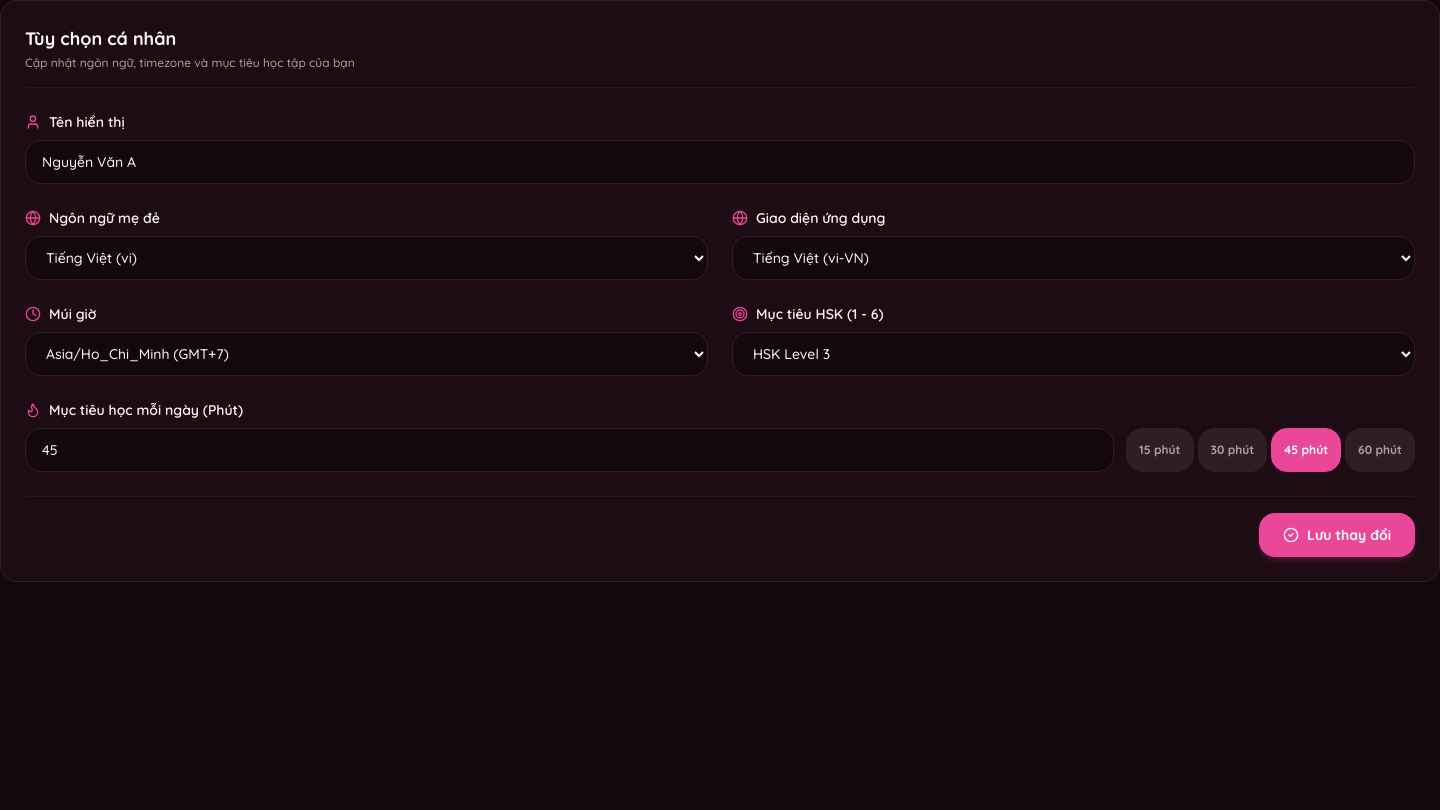
ProfilePreferencesForm Component › shows field error when display name is empty
The width and height of the screenshot is (1440, 810).
Clear the field with test id "profile-display-name-input" at (720, 162), box [25, 140, 1415, 184]
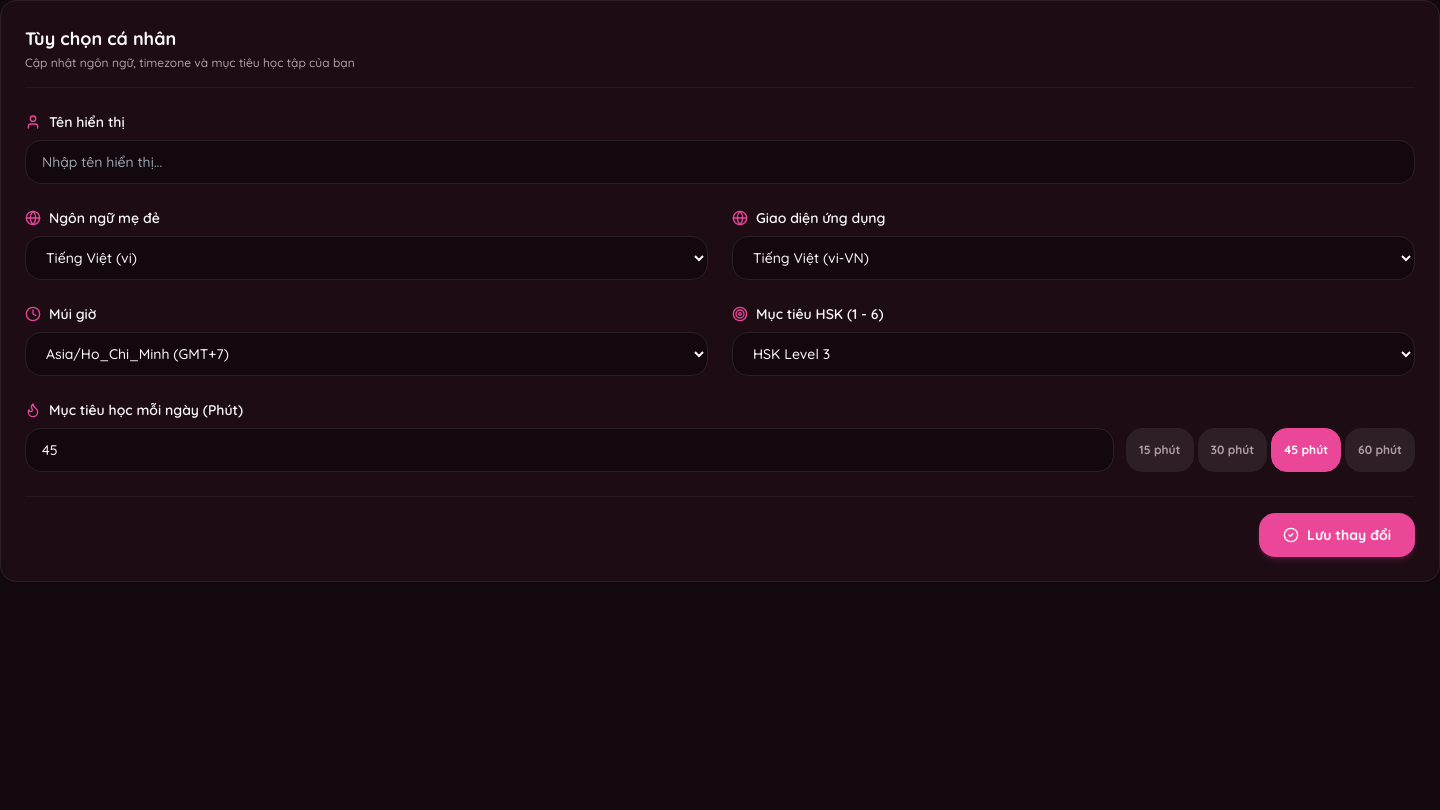
Click the button with test id "profile-submit-btn" at (1337, 535), box [1259, 513, 1415, 557]
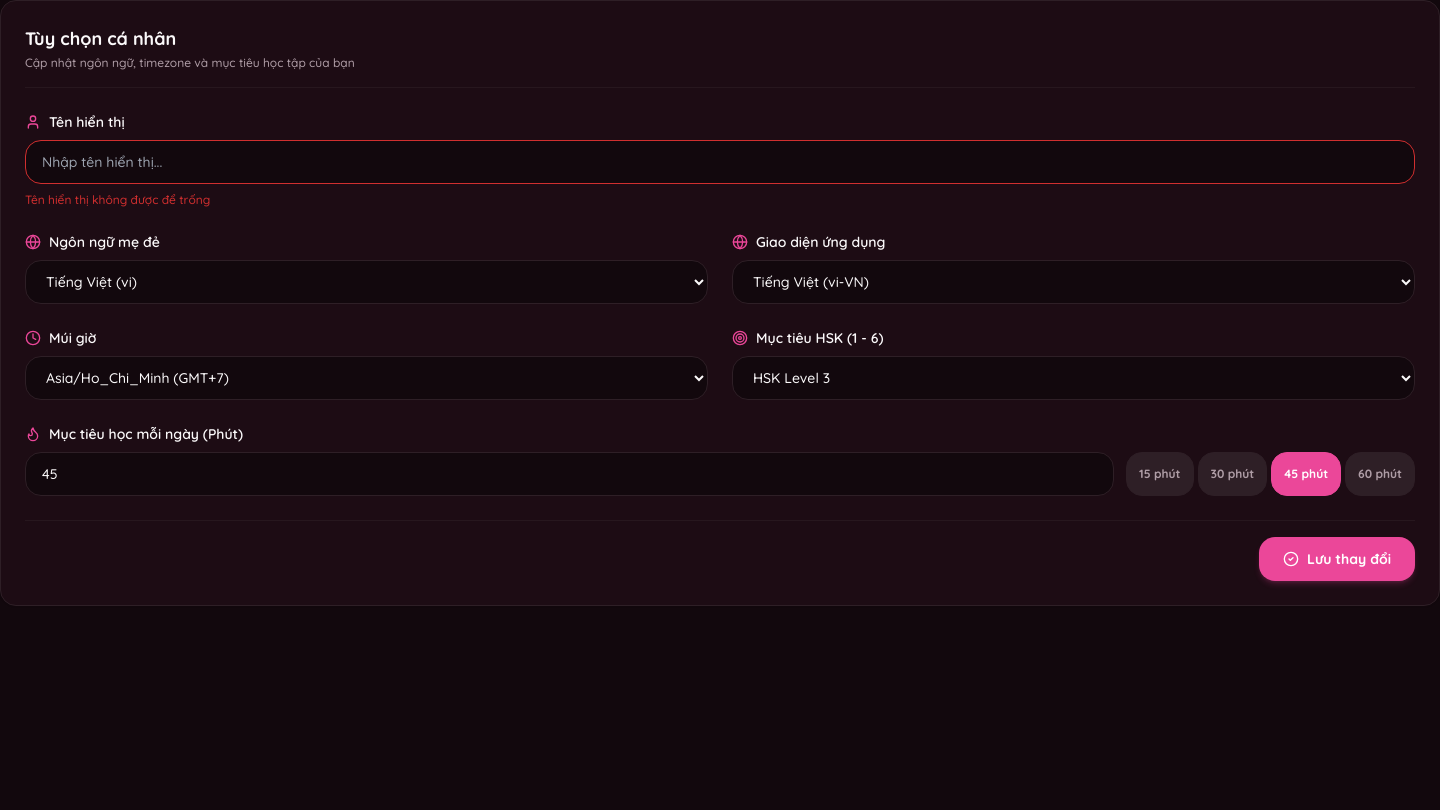
Now the text "Tên hiển thị không được để trống" is shown, box [25, 192, 210, 207]
